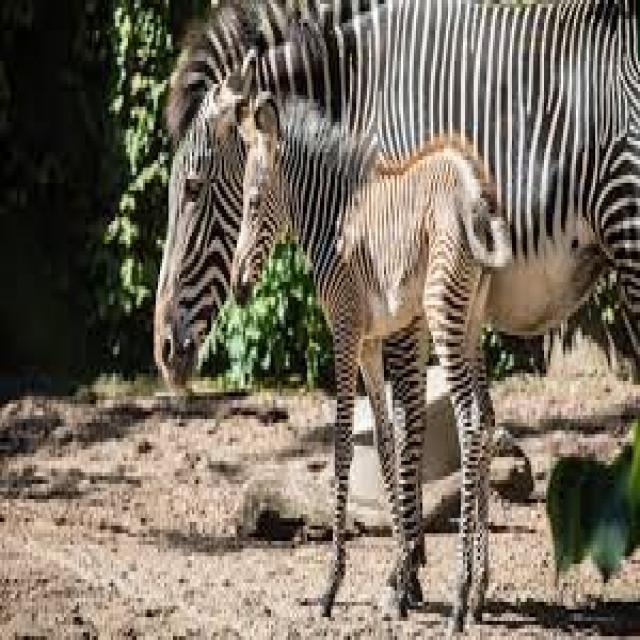Zebra: (154, 11, 638, 423), (234, 125, 496, 616)
